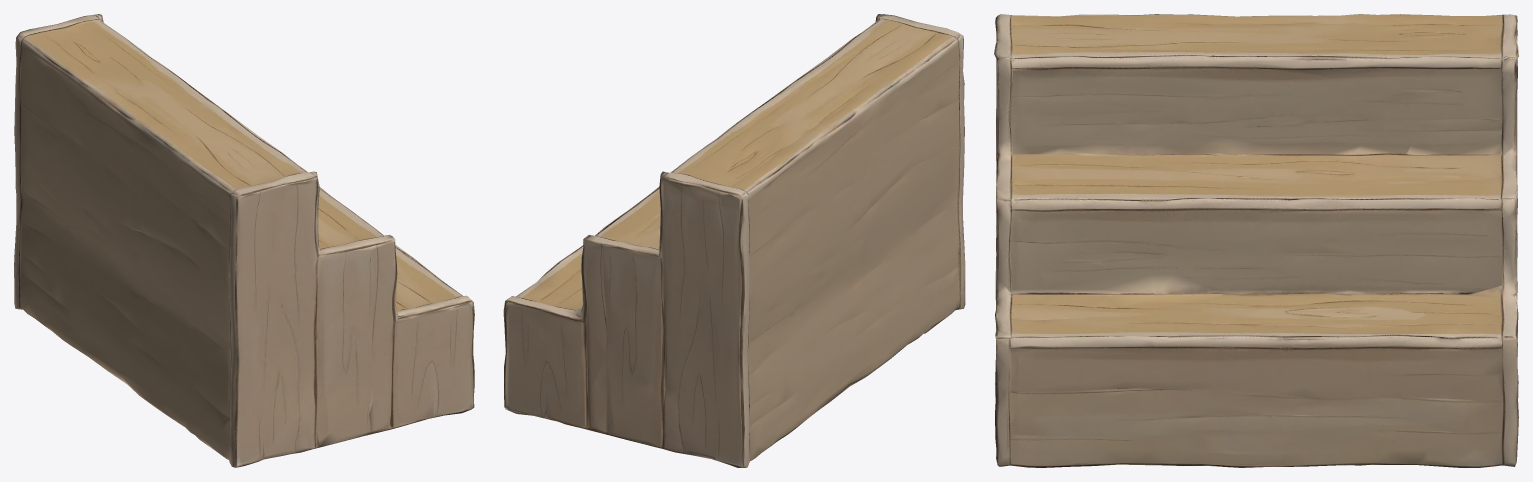
File: shop_display.glb
3 renders of one model, left to right at view 1: azimuth 30°, elevation 25°; view 2: azimuth 150°, elevation 25°; view 3: azimuth 270°, elevation 25°, orthographic. The views are drawn at different scales.
Visible parts, largest first — view 1: tripo_node_d08912b7-33be-4fd1-af5b-4817a449f84e; view 2: tripo_node_d08912b7-33be-4fd1-af5b-4817a449f84e; view 3: tripo_node_d08912b7-33be-4fd1-af5b-4817a449f84e.
Part boxes in pixels (x1=…): tripo_node_d08912b7-33be-4fd1-af5b-4817a449f84e: x1=14, y1=14, x2=474, y2=467; tripo_node_d08912b7-33be-4fd1-af5b-4817a449f84e: x1=503, y1=14, x2=965, y2=467; tripo_node_d08912b7-33be-4fd1-af5b-4817a449f84e: x1=994, y1=14, x2=1518, y2=467.
Size of the model in its own units: 0.6243 by 0.6789 by 1.
Materials: 1 (1 with a texture image).
